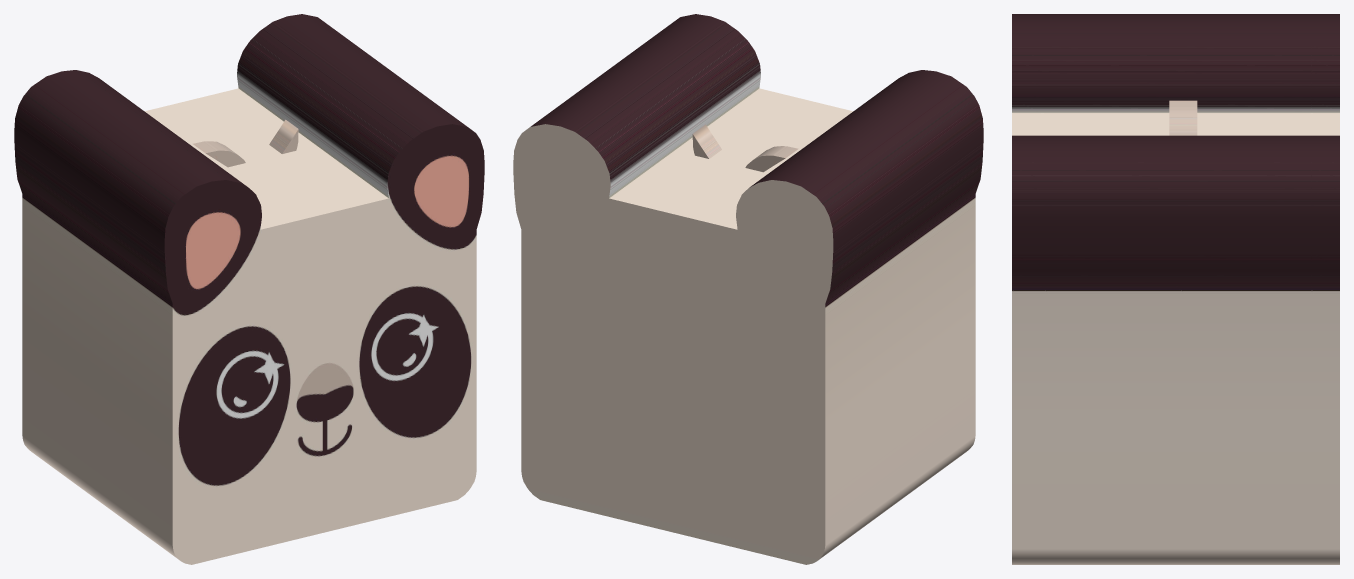
The model's file is Panda.fbx.
3 renders of one model, left to right at view 1: azimuth 30°, elevation 25°; view 2: azimuth 150°, elevation 25°; view 3: azimuth 270°, elevation 25°, orthographic. The views are drawn at different scales.
Visible parts, largest first — view 1: Panda; view 2: Panda; view 3: Panda.
Part boxes in pixels (x1,y1,x2,y2): Panda: [14, 14, 484, 564]; Panda: [513, 14, 983, 564]; Panda: [1012, 14, 1339, 564].
Bounding box in the file's own units: 5.64 × 6.38 × 4.59.
1 material, 1 textured.
